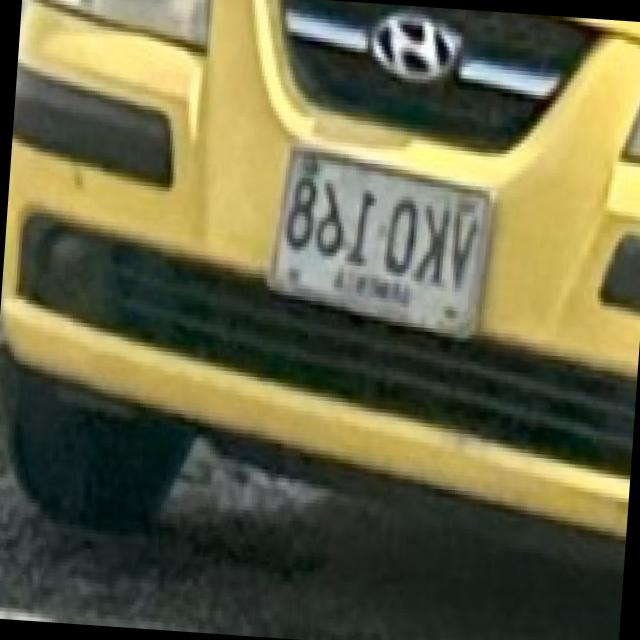number plate: (279, 148, 492, 329)
